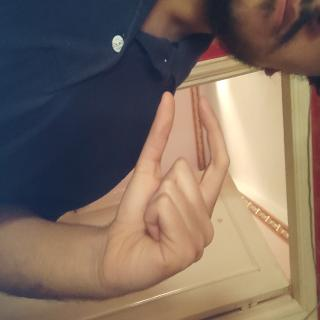DELL: (62, 115, 230, 294)
